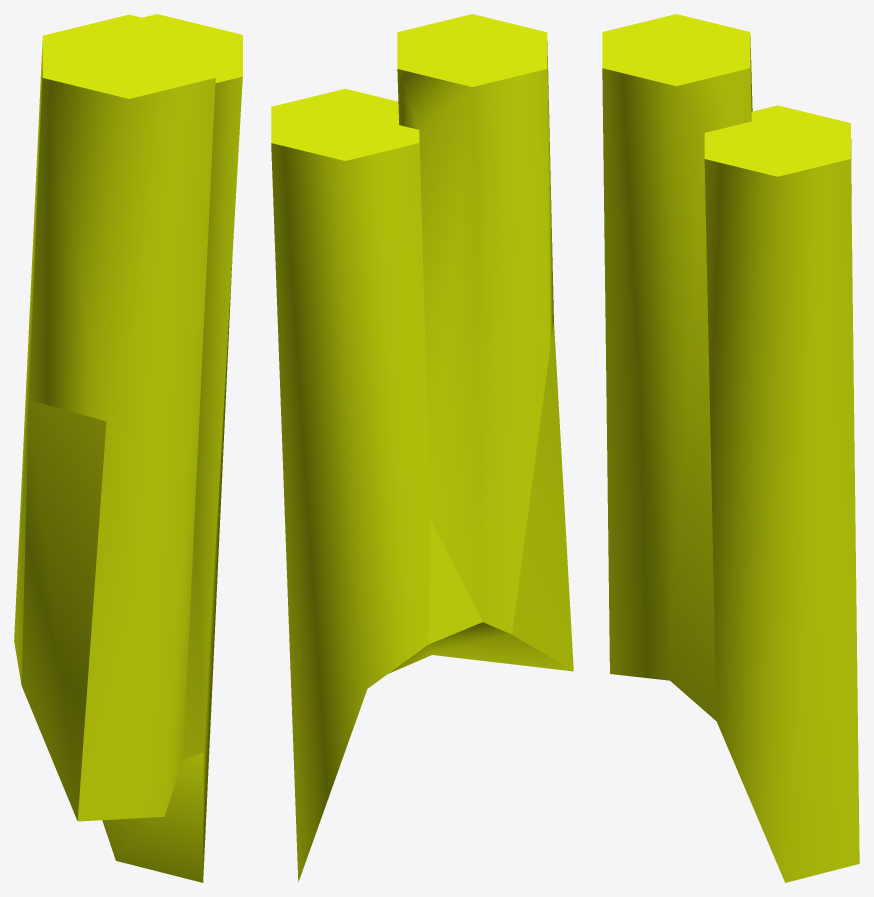
File: SM_ChoppedCliff.FBX
3 renders of one model, left to right at view 1: azimuth 30°, elevation 25°; view 2: azimuth 150°, elevation 25°; view 3: azimuth 270°, elevation 25°, orthographic. The views are drawn at different scales.
Parts seen in each view (by area): view 1: Cylinder817; view 2: Cylinder817; view 3: Cylinder817.
Part boxes in pixels (box(x1,y1,x2,y2)): Cylinder817: box(14, 14, 242, 882); Cylinder817: box(271, 14, 573, 881); Cylinder817: box(602, 14, 859, 882).
Bounding box in the file's own units: 327 × 1060 × 319.
